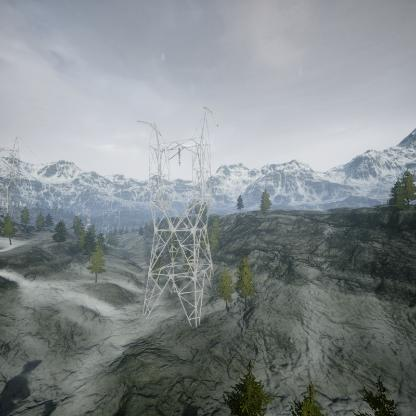tower: (132, 106, 228, 333)
